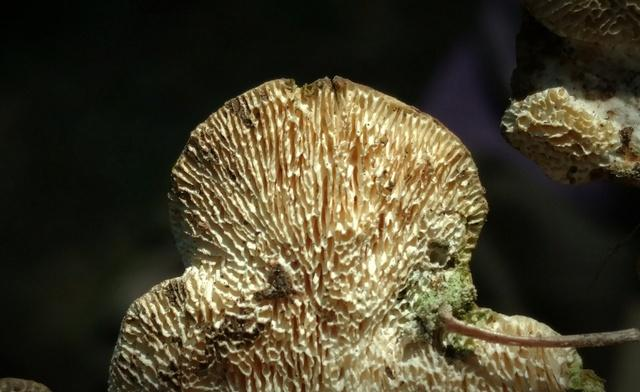Non-edible Mushroom: (106, 74, 603, 390)
